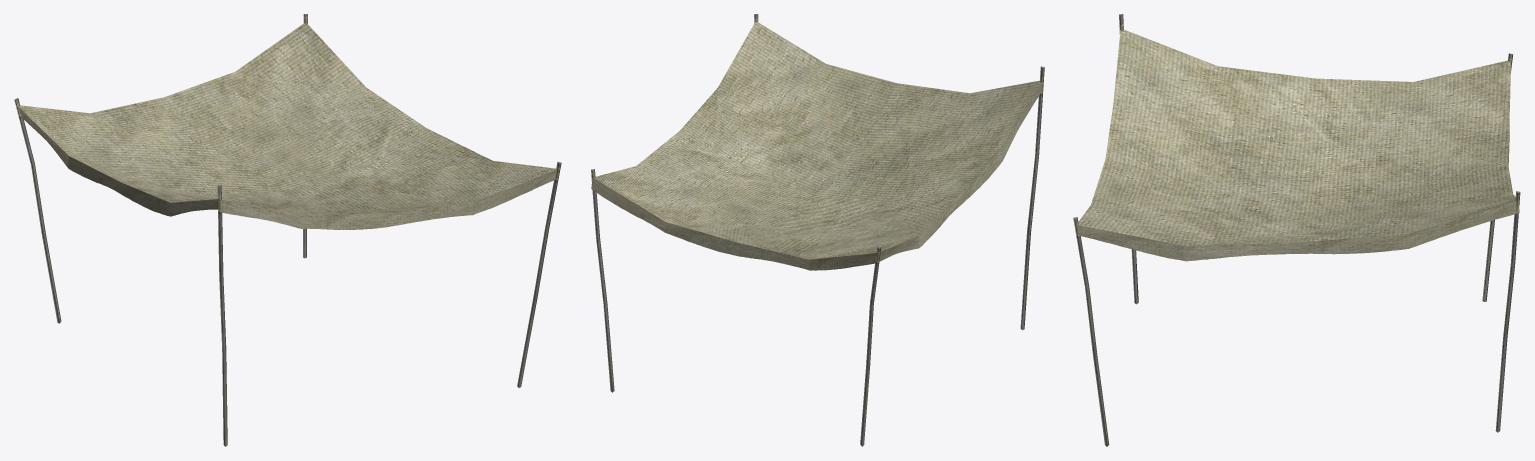
Rendered from poi_corl_tent_small_l1.fbx.
3 renders of one model, left to right at view 1: azimuth 30°, elevation 25°; view 2: azimuth 150°, elevation 25°; view 3: azimuth 270°, elevation 25°, orthographic. The views are drawn at different scales.
Parts seen in each view (by area): view 1: mesh_node; view 2: mesh_node; view 3: mesh_node.
Part boxes in pixels (x1=…): mesh_node: x1=14, y1=14, x2=561, y2=446; mesh_node: x1=591, y1=14, x2=1044, y2=446; mesh_node: x1=1073, y1=14, x2=1520, y2=446.
Bounding box in the file's own units: 4.85 × 3.69 × 5.3.
